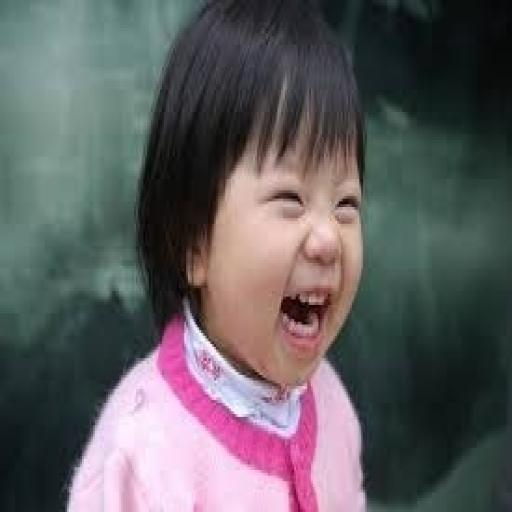laughing: (63, 0, 391, 509)
